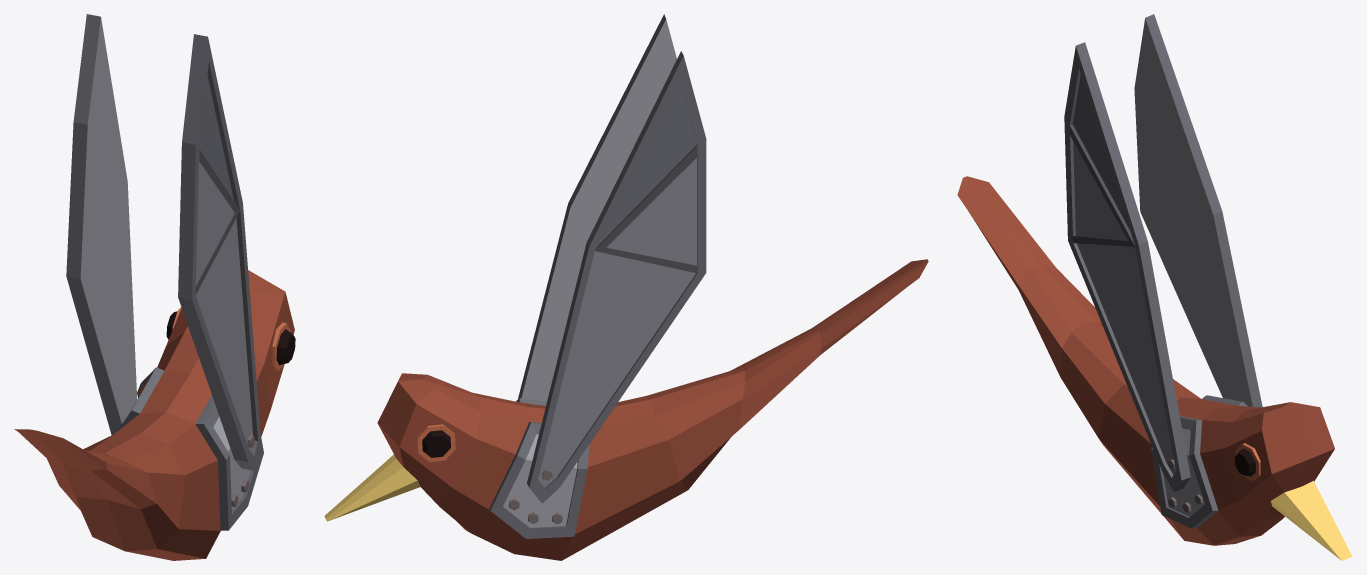
The model's file is hum.glb.
3 views of the same model, side by side, from view 1: azimuth 30°, elevation 25°; view 2: azimuth 150°, elevation 25°; view 3: azimuth 270°, elevation 25° (orthographic). The views are drawn at different scales.
Visible parts, largest first — view 1: Plane.002; view 2: Plane.002; view 3: Plane.002.
Part boxes in pixels (left/top/right/bottom): Plane.002: left=14, top=14, right=295, bottom=560; Plane.002: left=324, top=14, right=928, bottom=560; Plane.002: left=957, top=14, right=1352, bottom=560.
Bounding box in the file's own units: 0.8524 × 1.01 × 0.7551.
Materials: 1 (1 with a texture image).
